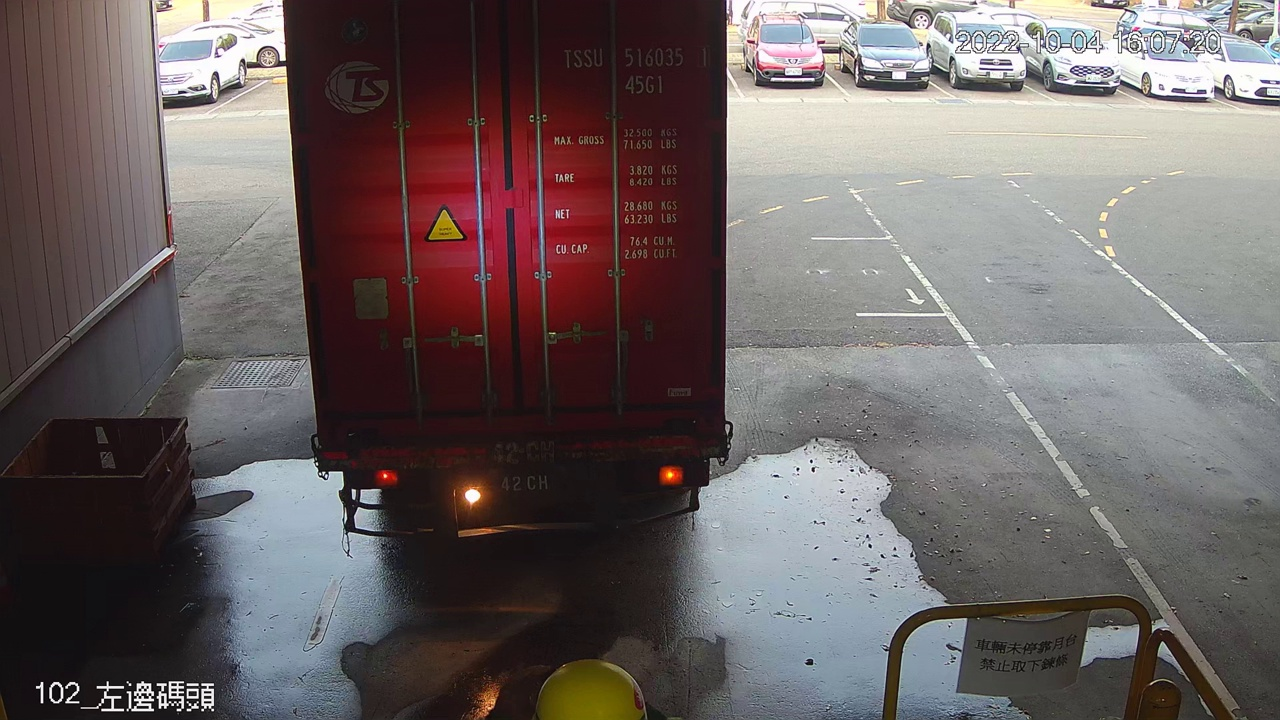container: (555, 39, 718, 101)
